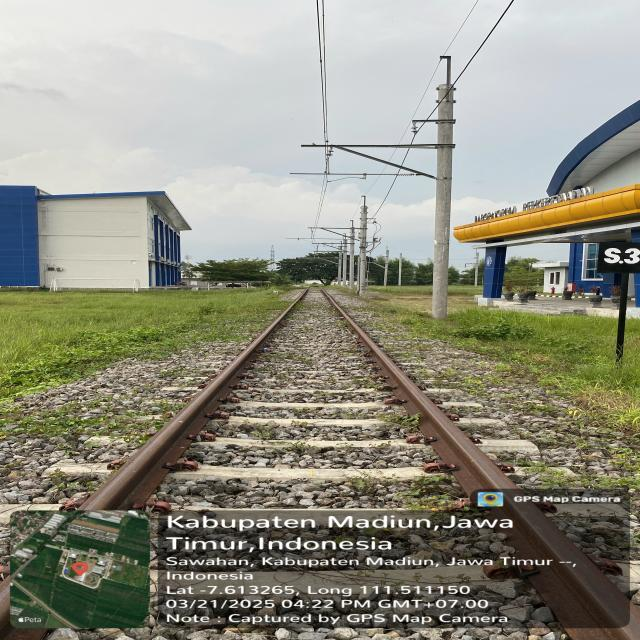rail-detection: (80, 290, 308, 510), (321, 290, 510, 494)
